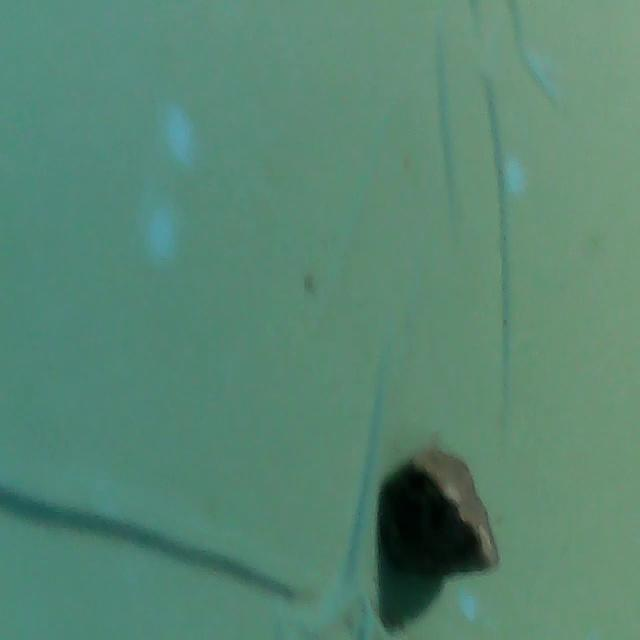rock: (372, 444, 507, 586)
